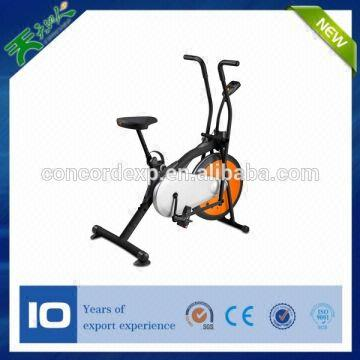gym_bike: (80, 52, 260, 272)
